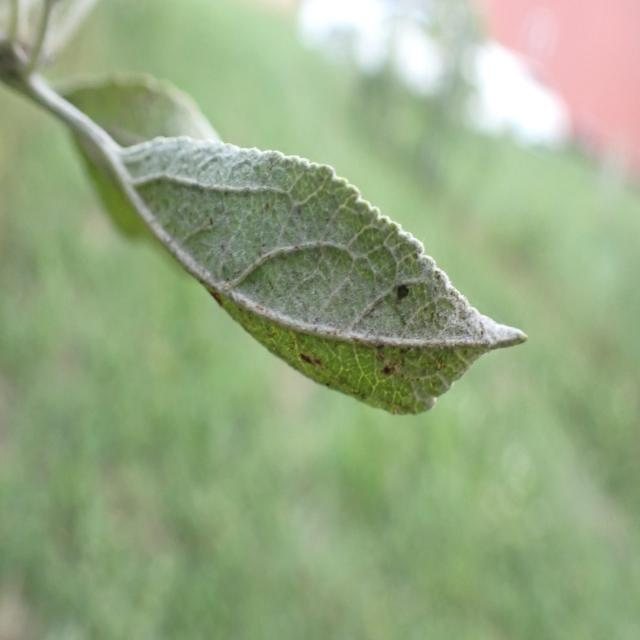Powdery_mildew: (31, 67, 552, 423)
